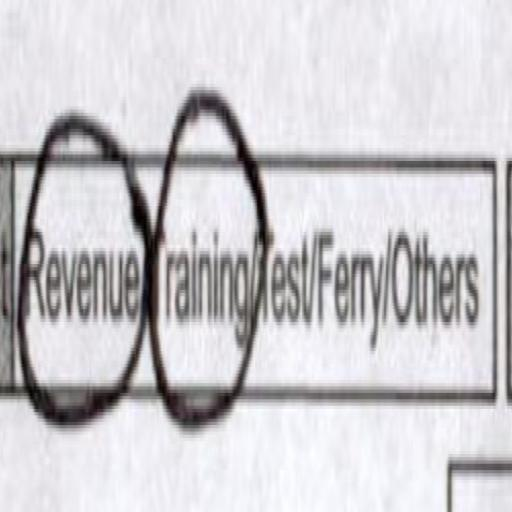check: (17, 77, 140, 414), (152, 56, 259, 384)
